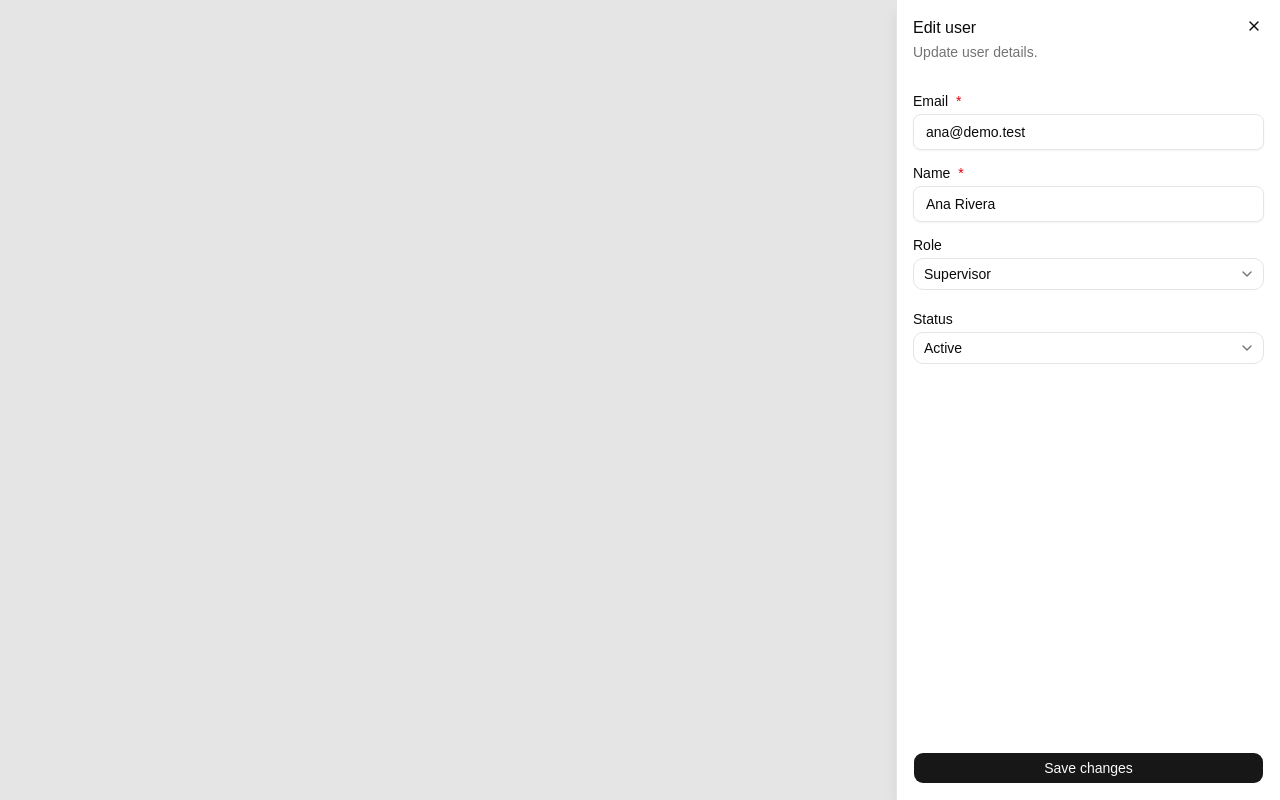
it: UserForm lower-role hint (H15) › UserForm_ShouldShowTheHint_WhenA_supervisor_IsLoweredTo_Agent
Click the dropdown with test id "user-form-role": (957, 274) [913,258,1264,290]
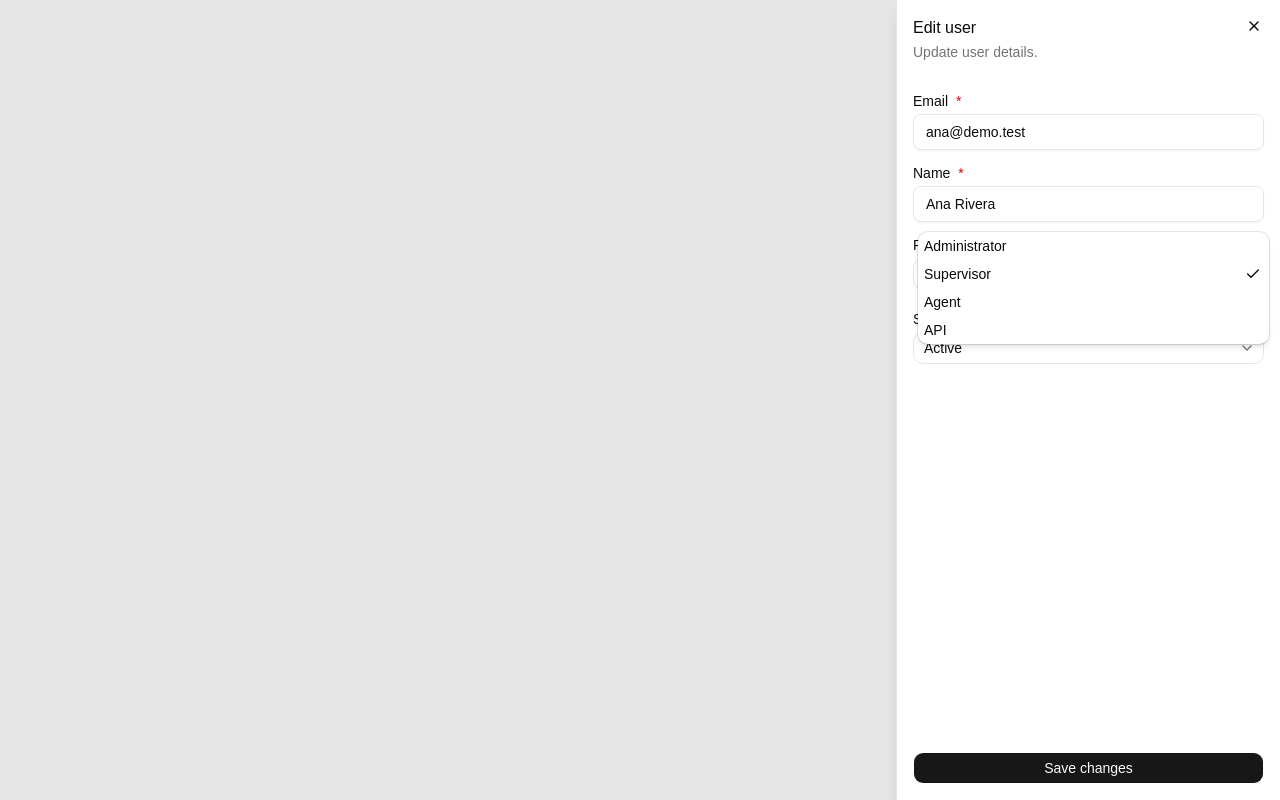
Click the option with test id "user-form-role-option-Agent": (942, 302) [924,294,961,310]
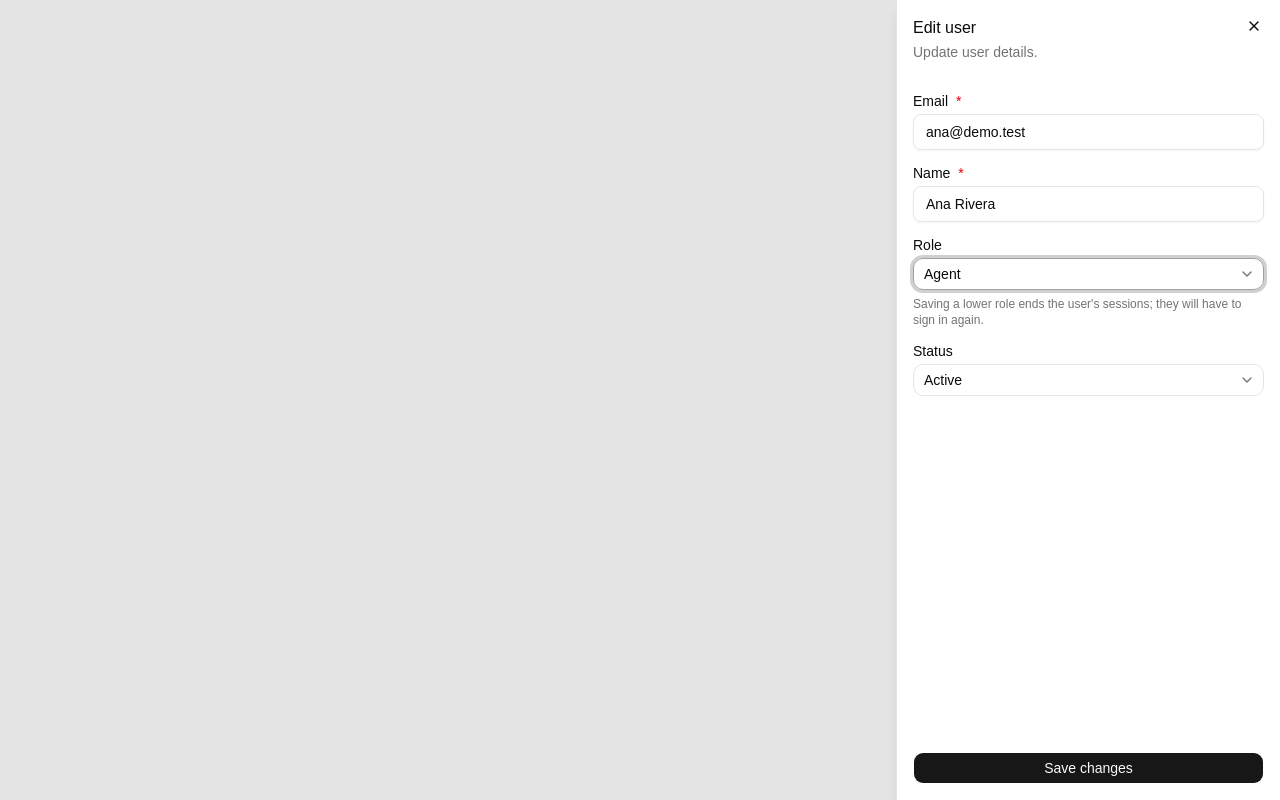
Expected: no options are shown
Expected: the text with test id "user-form-role-hint" reads "Saving a lower role ends the user's sessions; they will have to sign in again.", [913,297,1242,327]
